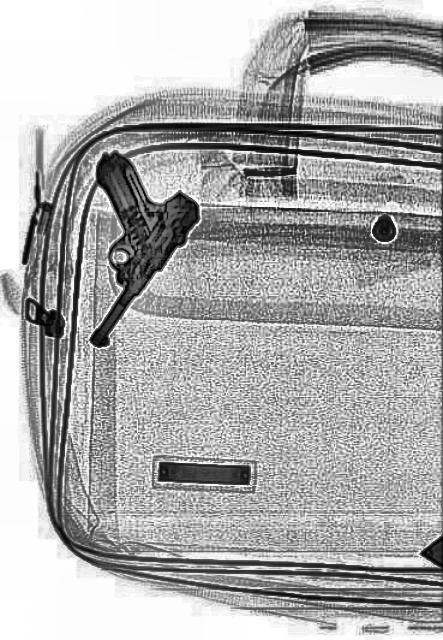Gun: (24, 116, 204, 357)
